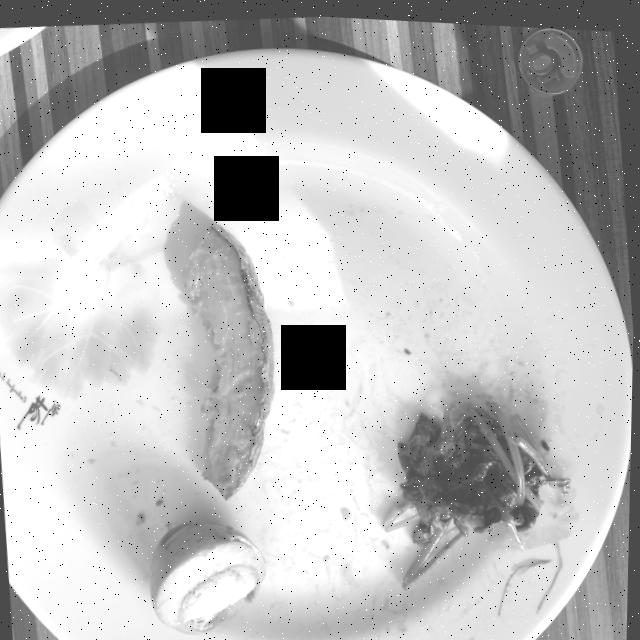coin: (518, 22, 583, 87)
pumpkin: (183, 222, 276, 495)
soy egg: (152, 517, 269, 631)
sweet potato leaves: (383, 395, 572, 583)
